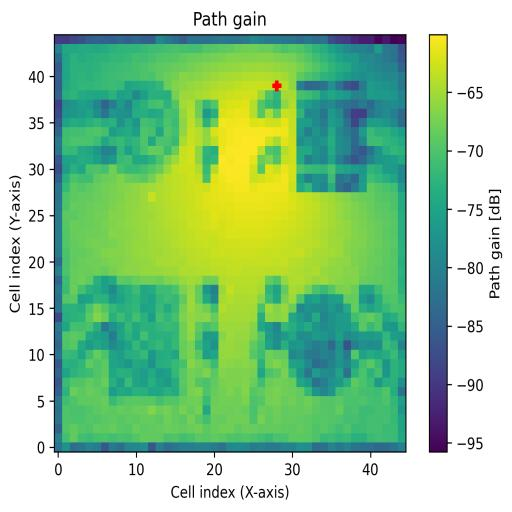Concrete: (298, 82, 367, 190)
Glass: (118, 80, 180, 184)
Metal: (281, 285, 359, 396)
Wood: (109, 285, 179, 397)
